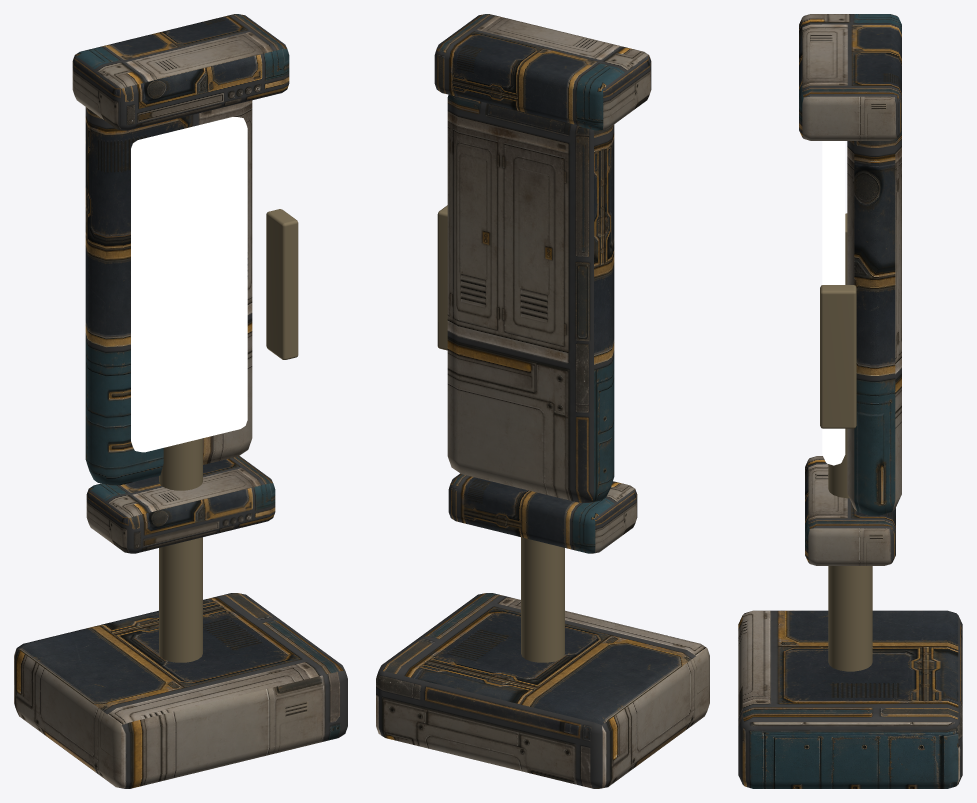
File: hp_light_residential_lamp_white.glb
The picture shows the model from 3 angles, left to right: view 1: azimuth 30°, elevation 25°; view 2: azimuth 150°, elevation 25°; view 3: azimuth 270°, elevation 25°; orthographic projection.
Parts seen in each view (by area): view 1: weighted_floor_base, front_glowing_lens, lamp_back_housing, top_cap_dark, bottom_cap_dark, vertical_service_spine, small_side_handle; view 2: lamp_back_housing, weighted_floor_base, top_cap_dark, bottom_cap_dark, vertical_service_spine, small_side_handle; view 3: weighted_floor_base, lamp_back_housing, top_cap_dark, bottom_cap_dark, vertical_service_spine, small_side_handle, front_glowing_lens.
Part boxes in pixels (x1,y1,x2,y2): weighted_floor_base: (14, 593, 347, 788); front_glowing_lens: (131, 117, 247, 452); lamp_back_housing: (85, 100, 252, 485); top_cap_dark: (72, 14, 289, 130); bottom_cap_dark: (86, 456, 275, 553); vertical_service_spine: (159, 438, 202, 662); small_side_handle: (266, 209, 298, 359); lamp_back_housing: (447, 95, 614, 502); weighted_floor_base: (376, 593, 709, 788); top_cap_dark: (434, 14, 651, 130); bottom_cap_dark: (448, 473, 637, 553); vertical_service_spine: (521, 537, 564, 662); small_side_handle: (437, 205, 447, 350); weighted_floor_base: (738, 610, 962, 788); lamp_back_housing: (847, 131, 901, 515); top_cap_dark: (799, 14, 901, 140); bottom_cap_dark: (805, 456, 895, 565); vertical_service_spine: (828, 213, 872, 671); small_side_handle: (820, 285, 856, 428); front_glowing_lens: (822, 141, 845, 465).
Bounding box in the file's own units: 0.5264 × 1.46 × 0.4343.
Materials: 4 (3 with a texture image).
